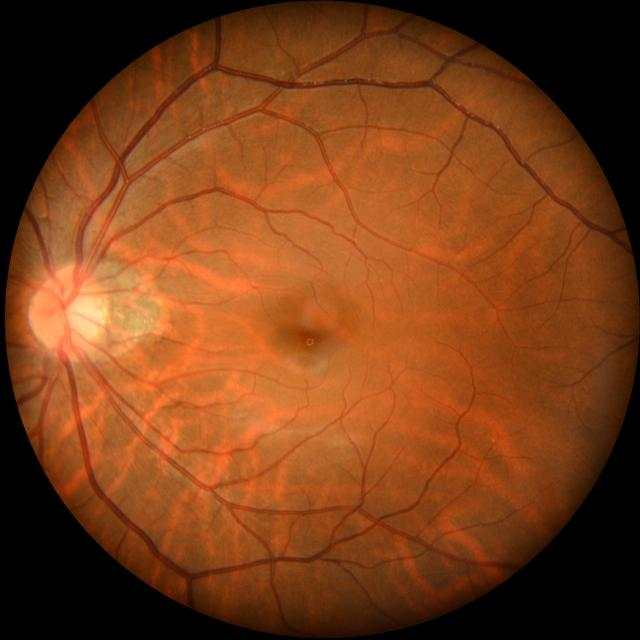OC: (60, 295, 96, 336)
OD: (31, 267, 107, 357)
